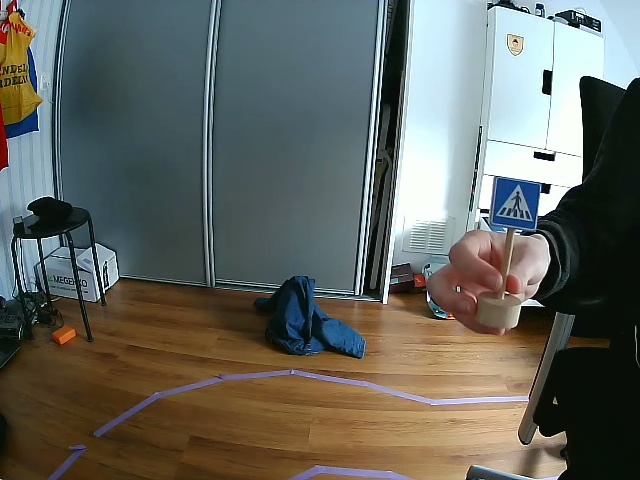zebrapad: (487, 174, 541, 232)
